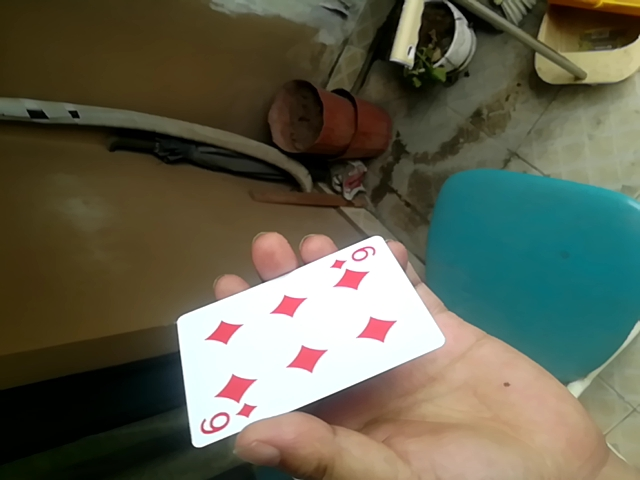fk 6: (172, 231, 443, 453)
